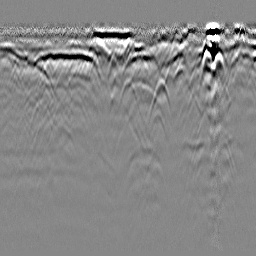cavity: (115, 77, 142, 118)
